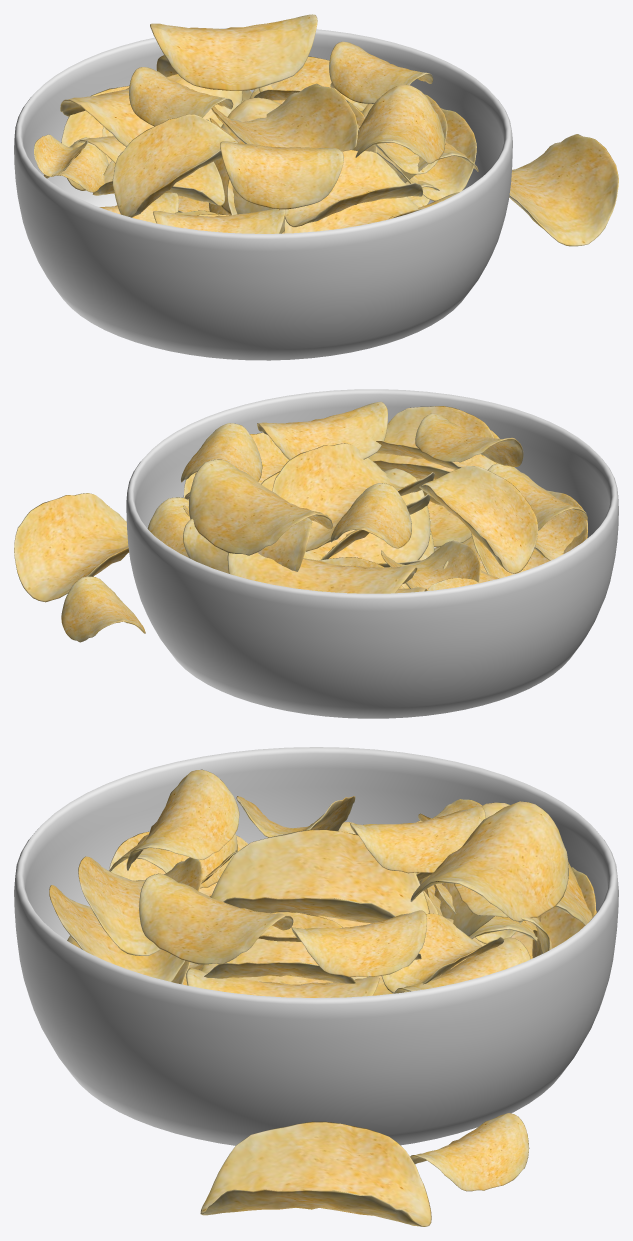
Rendered from potato_chips_in_bowl.glb.
3 views of the same model, one above another, from view 1: azimuth 30°, elevation 25°; view 2: azimuth 150°, elevation 25°; view 3: azimuth 270°, elevation 25° (orthographic). The views are drawn at different scales.
Parts seen in each view (by area): view 1: Cylinder001_3, Plane.030_30, Plane.019_48, Plane.026_27, Plane.029_29, Plane.014_17, Plane.028_28, Plane.023_24, Plane.031_31, Plane.032_32, Plane.037_35, Plane.009_12 (+12 smaller); view 2: Cylinder001_3, Plane.019_48, Plane.030_30, Plane.026_27, Plane.014_17, Plane.037_35, Plane.028_28, Plane.029_29, Plane.034_33, Plane.021_49, Plane.032_32, Plane.023_24 (+11 smaller); view 3: Cylinder001_3, Plane.019_48, Plane.014_17, Plane.030_30, Plane.028_28, Plane.031_31, Plane.029_29, Plane.021_49, Plane.032_32, Plane.023_24, Plane.015_18, Plane.016_19 (+10 smaller).
Part boxes in pixels (x1,y1,x2,y2): Cylinder001_3: [14, 28, 512, 360]; Plane.030_30: [150, 14, 317, 90]; Plane.019_48: [509, 134, 618, 246]; Plane.026_27: [112, 114, 238, 217]; Plane.029_29: [220, 141, 343, 209]; Plane.014_17: [211, 83, 357, 151]; Plane.028_28: [352, 84, 445, 163]; Plane.023_24: [284, 149, 422, 227]; Plane.031_31: [329, 41, 433, 103]; Plane.032_32: [129, 67, 233, 126]; Plane.037_35: [60, 74, 242, 146]; Plane.009_12: [376, 107, 476, 201]; Cylinder001_3: [126, 389, 618, 718]; Plane.019_48: [14, 493, 129, 602]; Plane.030_30: [188, 459, 332, 555]; Plane.026_27: [419, 466, 538, 573]; Plane.014_17: [272, 443, 434, 551]; Plane.037_35: [227, 552, 417, 593]; Plane.028_28: [257, 401, 387, 459]; Plane.029_29: [415, 413, 523, 466]; Plane.034_33: [303, 468, 430, 567]; Plane.021_49: [61, 576, 145, 642]; Plane.032_32: [330, 483, 411, 548]; Plane.023_24: [376, 406, 496, 469]; Cylinder001_3: [14, 747, 618, 1145]; Plane.019_48: [200, 1121, 431, 1226]; Plane.014_17: [211, 829, 429, 923]; Plane.030_30: [410, 801, 568, 921]; Plane.028_28: [139, 873, 293, 964]; Plane.031_31: [291, 910, 426, 977]; Plane.029_29: [126, 769, 239, 870]; Plane.021_49: [410, 1113, 529, 1191]; Plane.032_32: [350, 806, 485, 873]; Plane.023_24: [78, 856, 202, 955]; Plane.015_18: [201, 911, 367, 983]; Plane.016_19: [49, 885, 184, 981].
Bounding box in the file's own units: 0.2344 × 0.0803 × 0.1825.
Materials: 2 (1 with a texture image).
